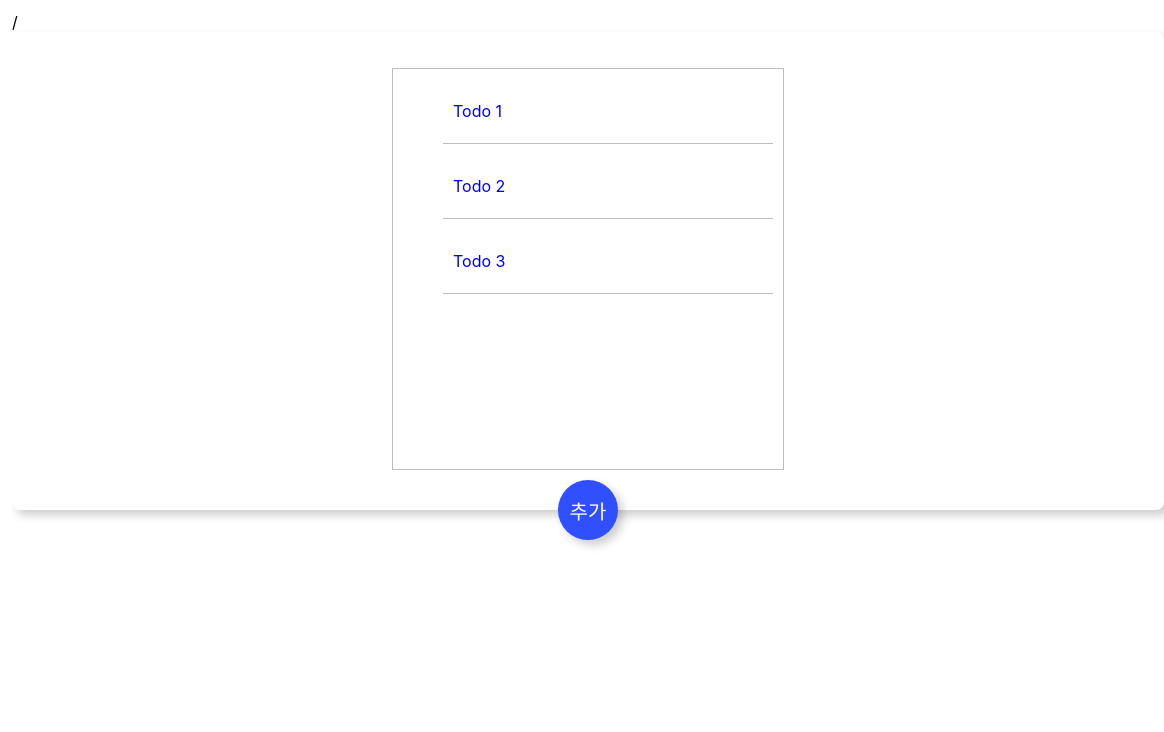
Scenario: <List/> › move to add page
Expected: the text "/" is shown, [12, 12, 18, 32]
Click the link "추가".
click(588, 510)  # box [558, 480, 618, 540]
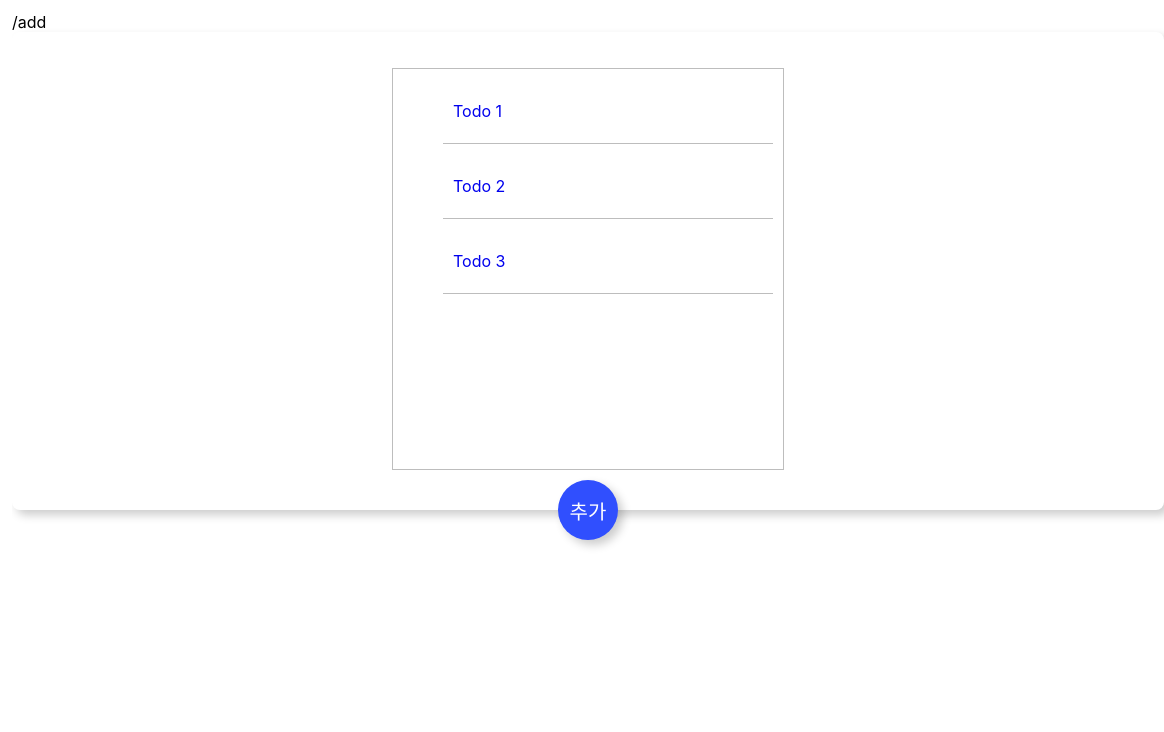
Expected: the text "/" reads "/add", [12, 12, 46, 32]
